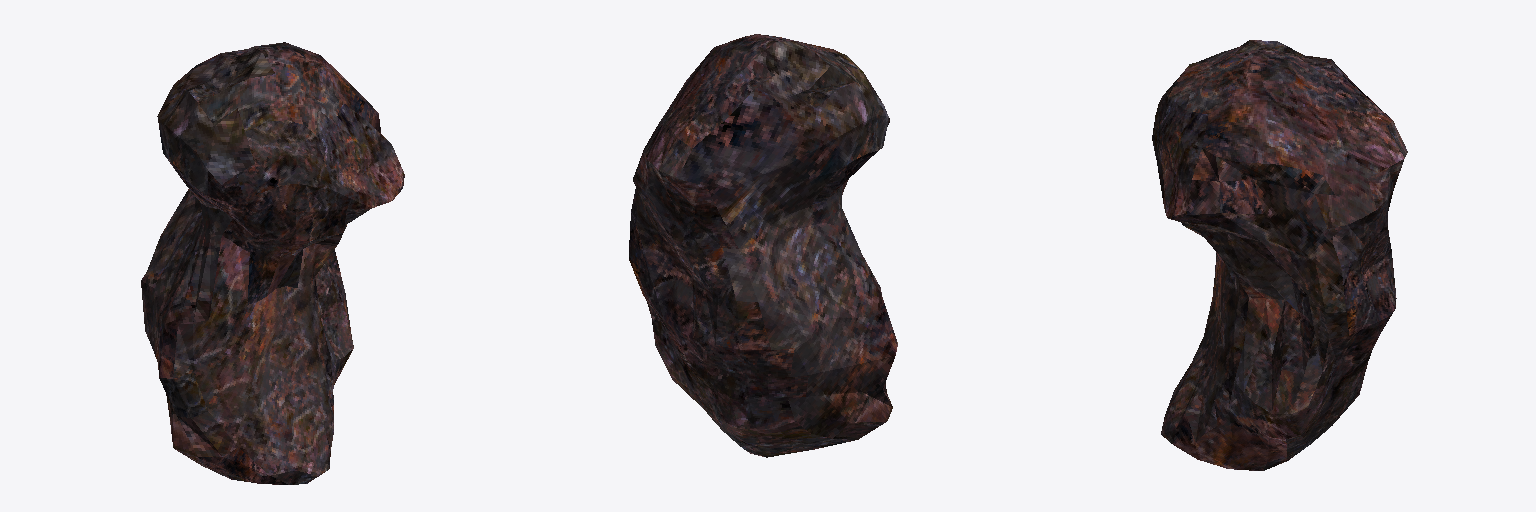
The picture shows the model from 3 angles: view 1: azimuth 30°, elevation 25°; view 2: azimuth 150°, elevation 25°; view 3: azimuth 270°, elevation 25°; orthographic projection.
Parts seen in each view (by area): view 1: Cube_Cube.002; view 2: Cube_Cube.002; view 3: Cube_Cube.002.
Boxes of the visible parts, box(x1,y1,x2,y2) form: Cube_Cube.002: box(141, 42, 404, 484); Cube_Cube.002: box(629, 34, 897, 457); Cube_Cube.002: box(1152, 40, 1407, 470).
Bounding box in the file's own units: 2.91 × 5.17 × 2.87.
1 materials, 1 textured.